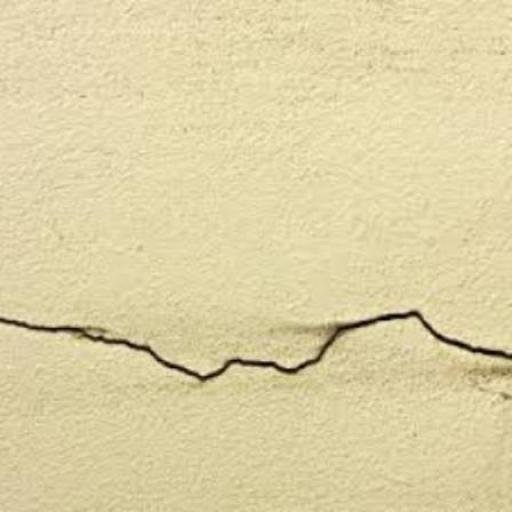spalling: (9, 300, 511, 391)
